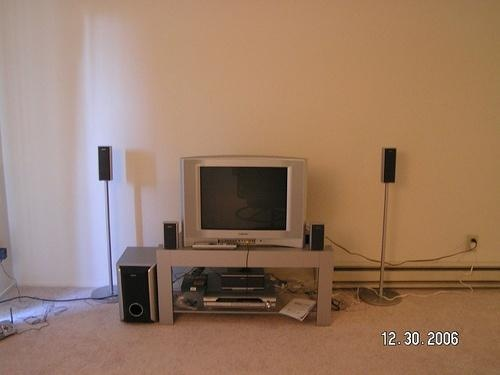tvmonitor: (184, 155, 306, 249)
